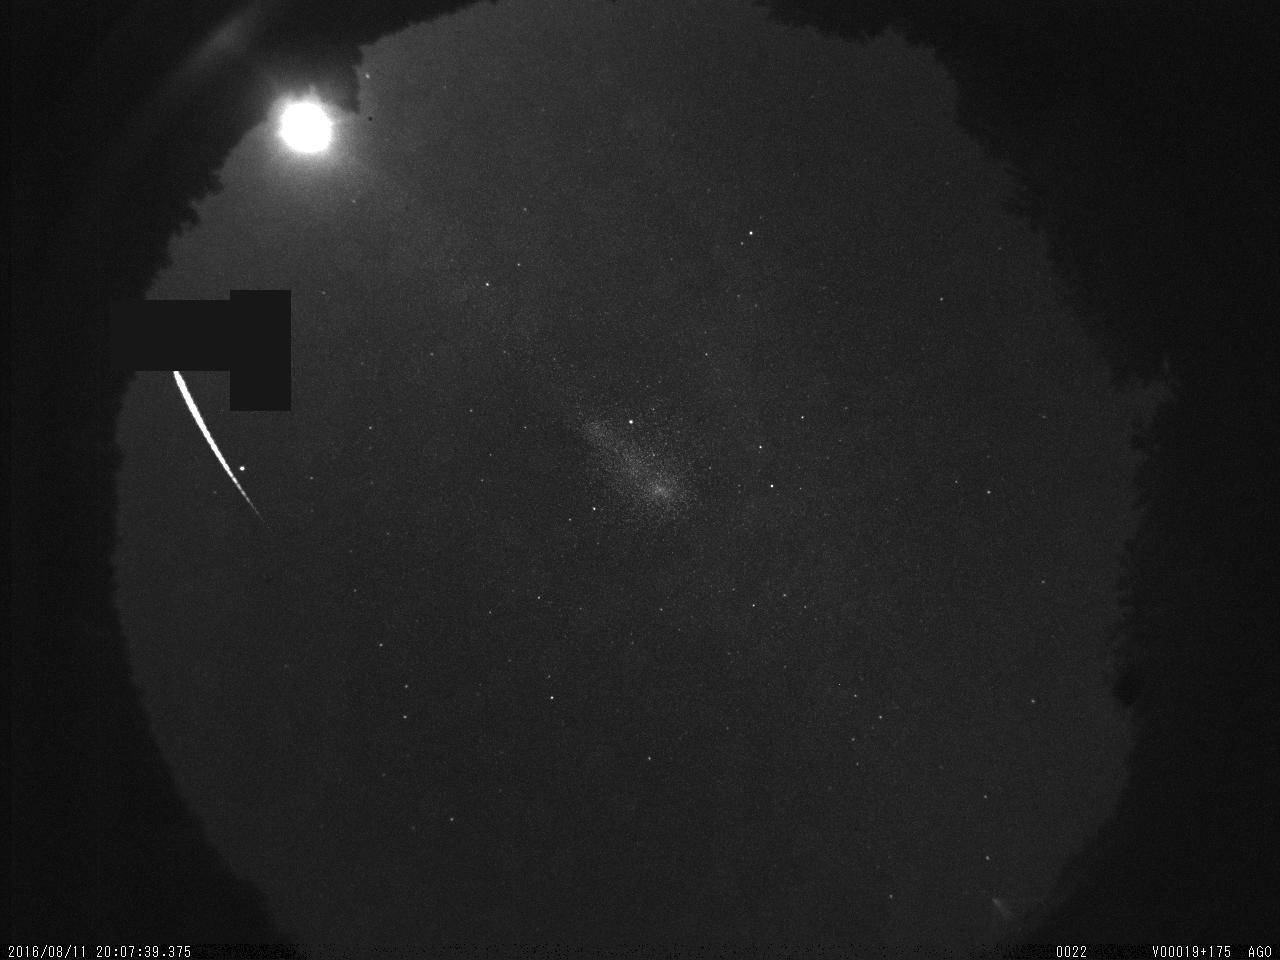meteor: (163, 348, 280, 527)
